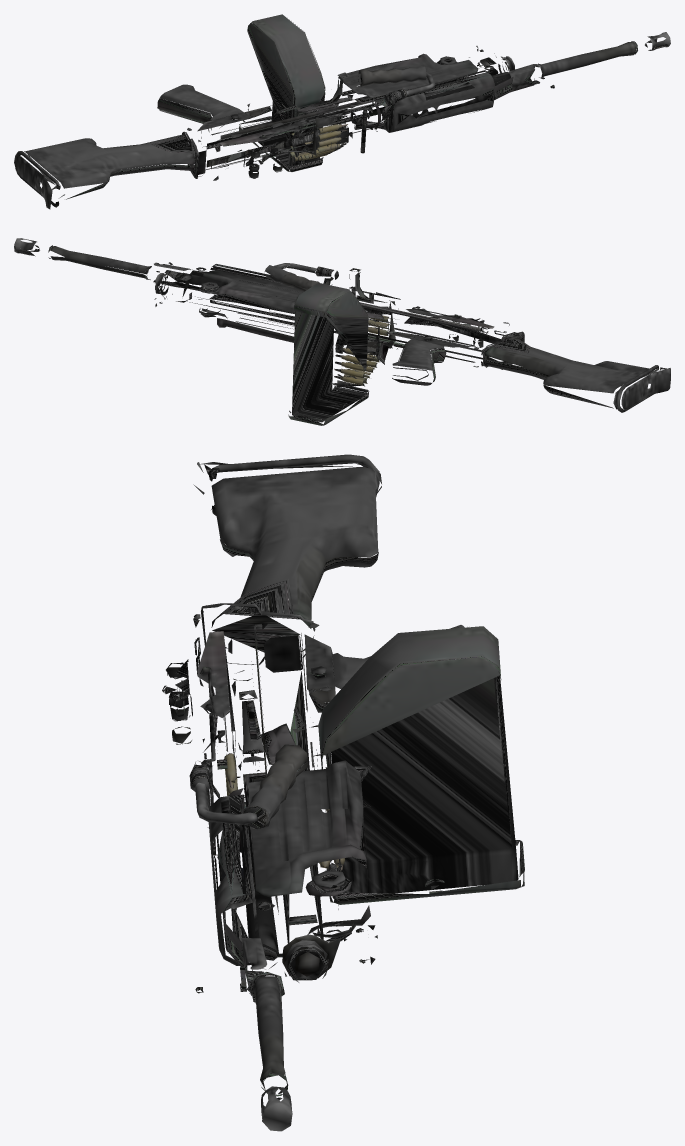
3 views of the same model, one above another, from view 1: azimuth 30°, elevation 25°; view 2: azimuth 150°, elevation 25°; view 3: azimuth 270°, elevation 25° (orthographic). The views are drawn at different scales.
Visible parts, largest first — view 1: p_m249; view 2: p_m249; view 3: p_m249.
Boxes of the visible parts, x1,y1,x2,y2 form: p_m249: [14, 14, 670, 209]; p_m249: [14, 238, 670, 425]; p_m249: [162, 454, 524, 1131].
Size of the model in its own units: 1.64 by 0.3071 by 0.4083.
1 material, 1 textured.
